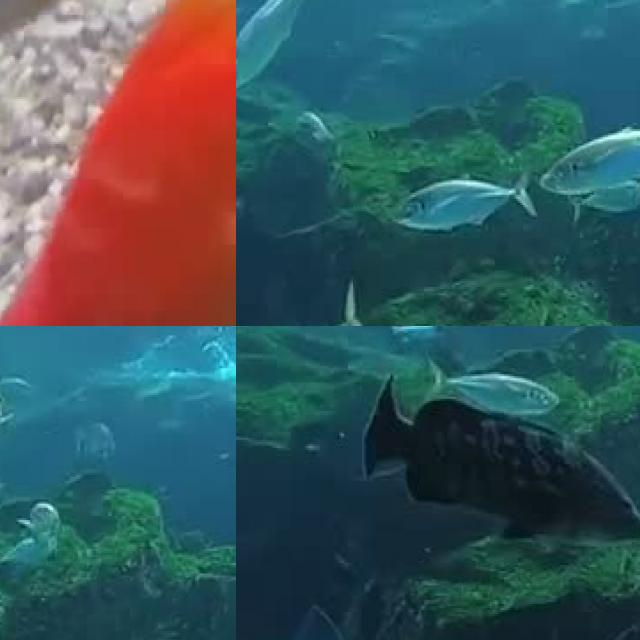fish: (0, 0, 236, 326), (236, 0, 340, 94)
